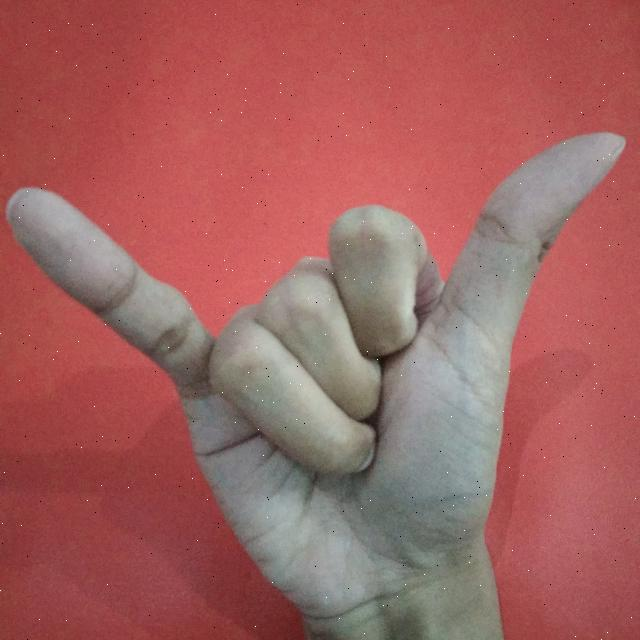Y: (0, 120, 637, 640)
